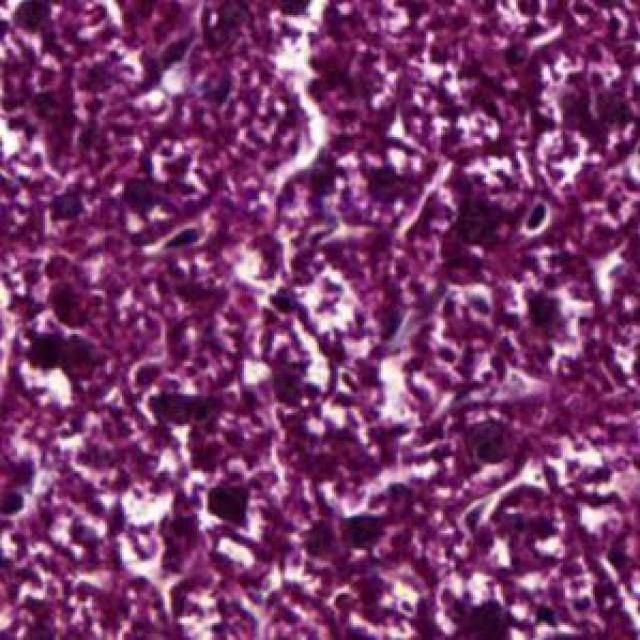inflammation: (11, 321, 113, 409), (509, 274, 604, 366), (430, 567, 527, 640), (195, 475, 261, 550)
